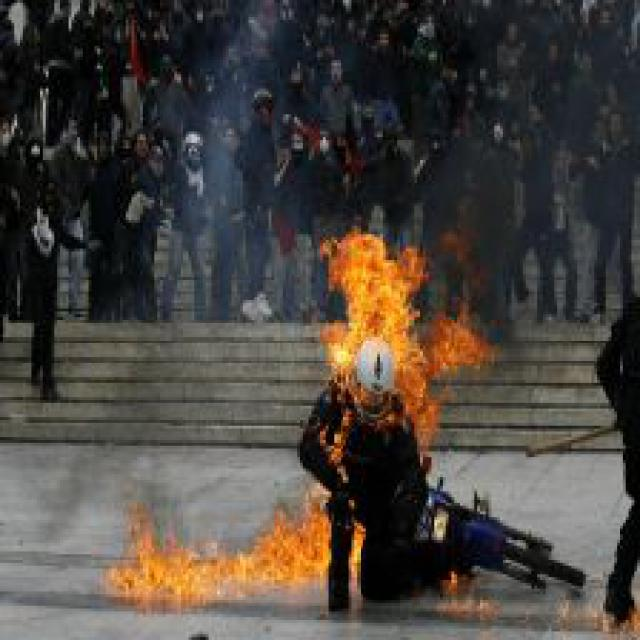fire: (97, 226, 494, 611)
